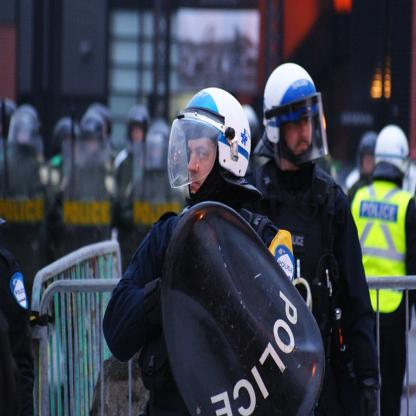Helmet: (166, 90, 258, 200), (262, 60, 328, 164), (374, 124, 411, 178), (8, 108, 40, 165), (146, 118, 170, 172), (82, 110, 105, 159), (125, 106, 151, 148), (56, 119, 80, 155), (358, 134, 379, 175), (92, 106, 113, 139), (0, 100, 17, 118)
